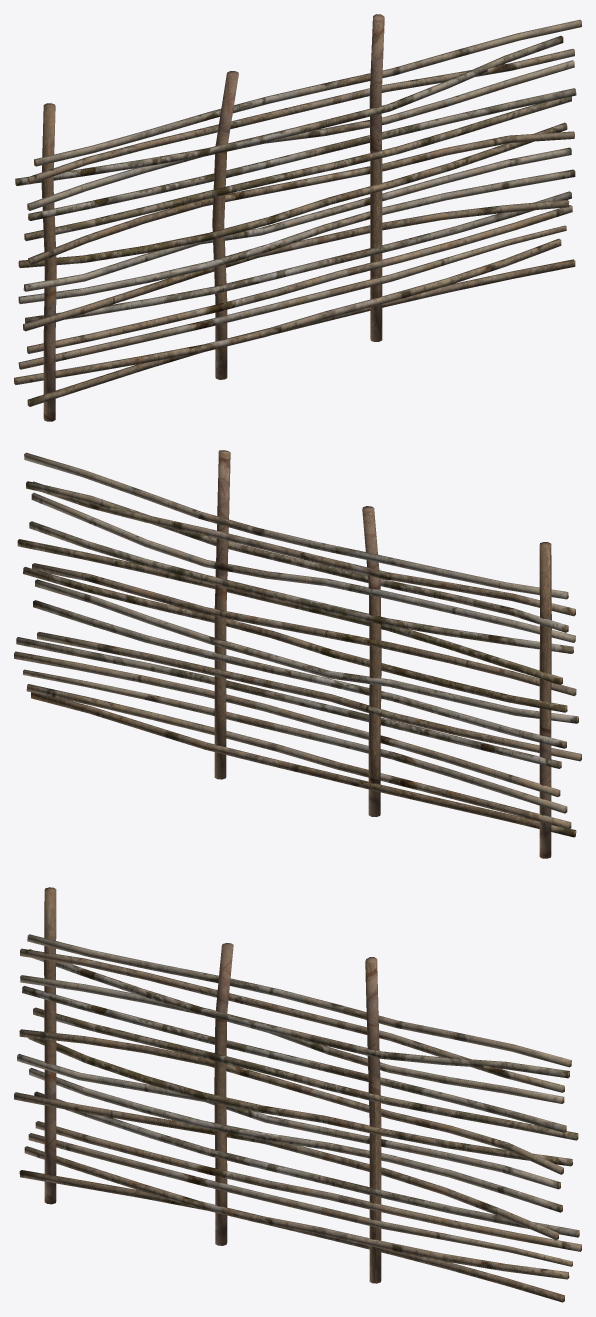
The model's file is fence_rails.glb.
3 renders of one model, top to bottom at view 1: azimuth 30°, elevation 25°; view 2: azimuth 150°, elevation 25°; view 3: azimuth 330°, elevation 25°, orthographic.
Visible parts, largest first — view 1: fence01_Log_0; view 2: fence01_Log_0; view 3: fence01_Log_0.
Boxes of the visible parts, x1,y1,x2,y2 form: fence01_Log_0: (14, 14, 581, 421); fence01_Log_0: (14, 450, 581, 858); fence01_Log_0: (14, 887, 581, 1302).
Bounding box in the file's own units: 2.25 × 1.26 × 0.0929.
1 material, 1 textured.
